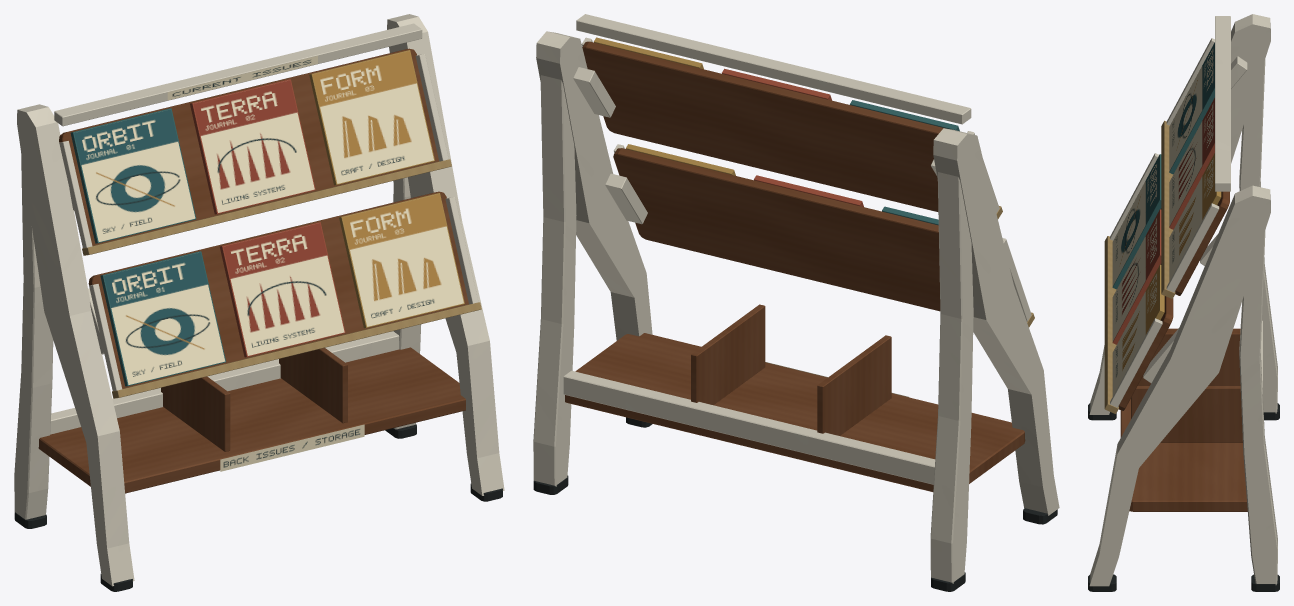
The model's file is AST-LIB-009.glb.
3 renders of one model, left to right at view 1: azimuth 30°, elevation 25°; view 2: azimuth 150°, elevation 25°; view 3: azimuth 270°, elevation 25°, orthographic. The views are drawn at different scales.
Visible parts, largest first — view 1: AST-LIB-009_static_visual; view 2: AST-LIB-009_static_visual; view 3: AST-LIB-009_static_visual.
Part boxes in pixels (x1,y1,x2,y2): AST-LIB-009_static_visual: (14,14,504,591); AST-LIB-009_static_visual: (533,14,1059,591); AST-LIB-009_static_visual: (1088,14,1279,591).
Bounding box in the file's own units: 1.2 × 1.24 × 0.535.
Materials: 13 (13 with a texture image).
